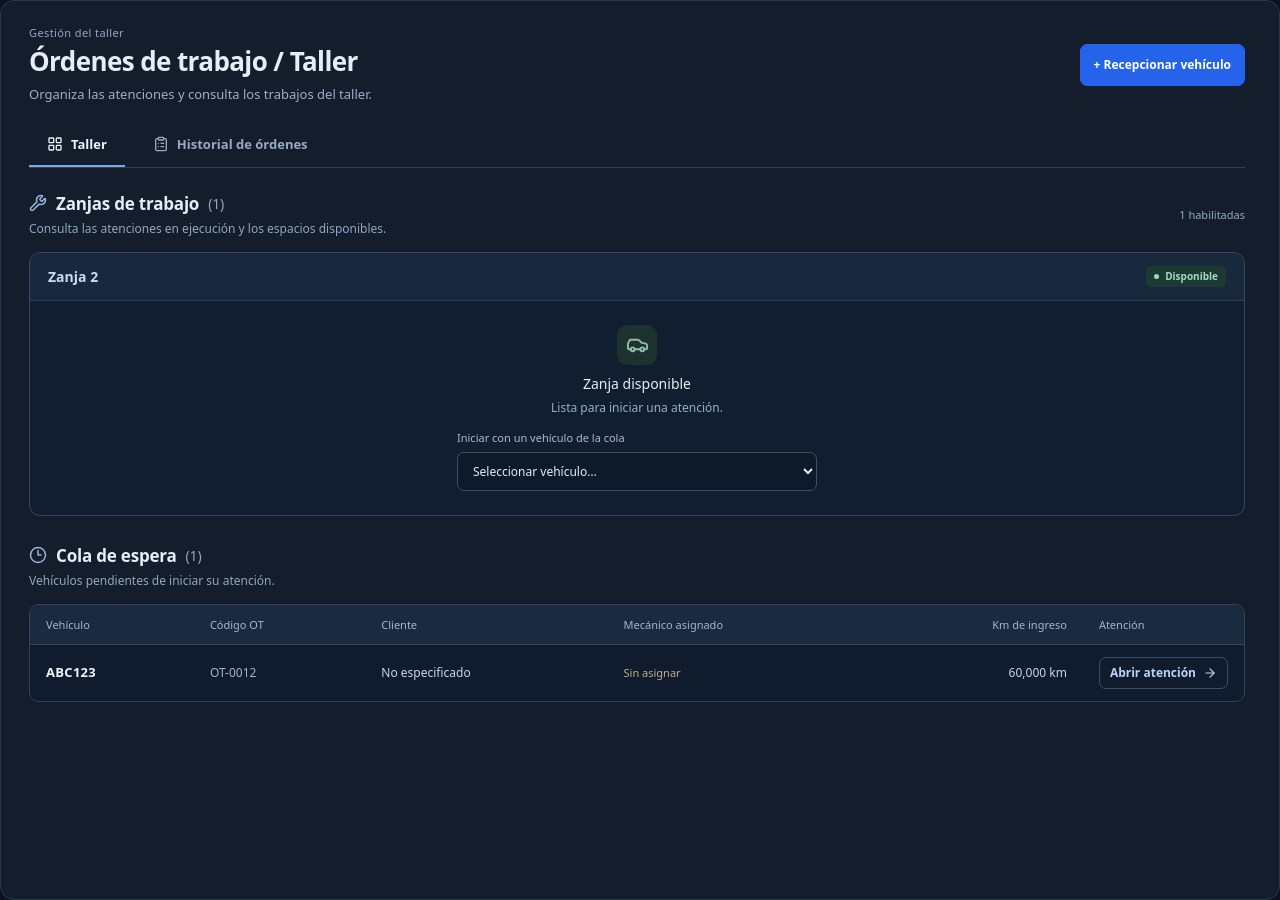
Test case: Avisos de recepción, inicio directo y consultas › una recepción pendiente no anuncia éxito y lo muestra al confirmarse
The image size is (1280, 900).
Expected: the text "ABC123" is shown, [46,663,96,681]
Step 1. Click the button "+ Recepcionar vehículo" → click(1162, 65), box [1080,44,1245,86]
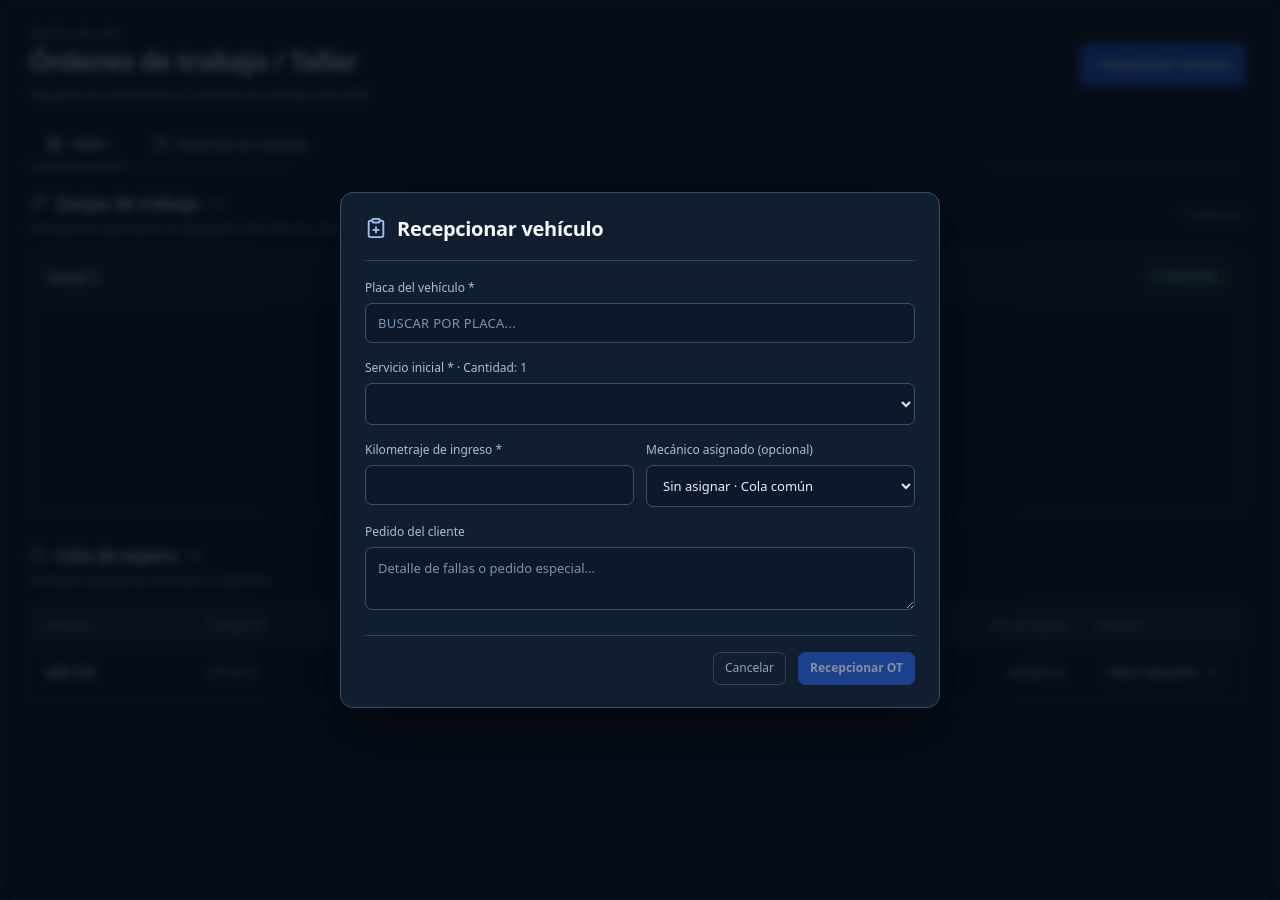
Step 2. Type "ABC123" into the field with placeholder "Buscar por placa..." → (640, 323), box [365,303,915,343]
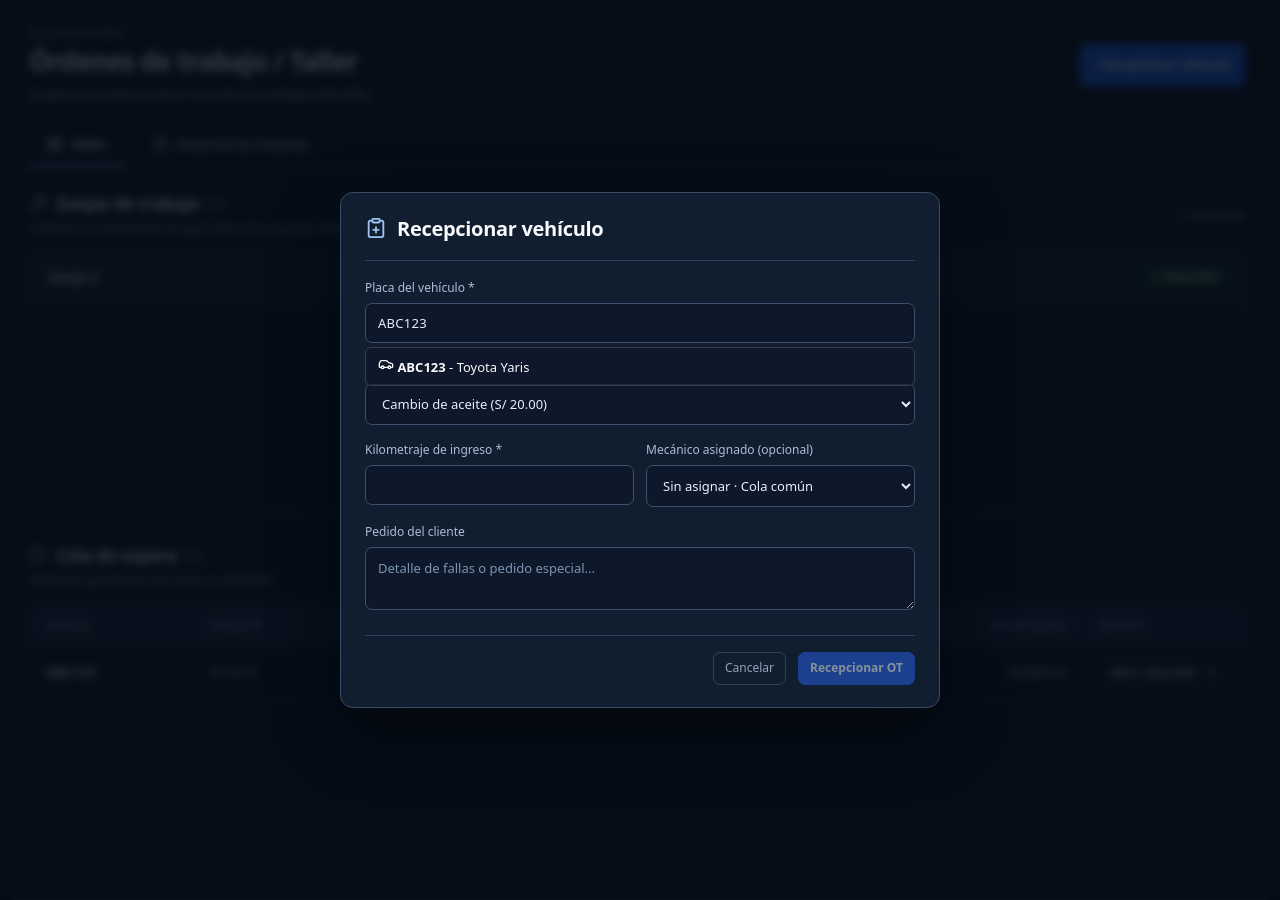
Step 3. Click the text "ABC123 - Toyota Yaris" → click(640, 366), box [366,348,914,385]
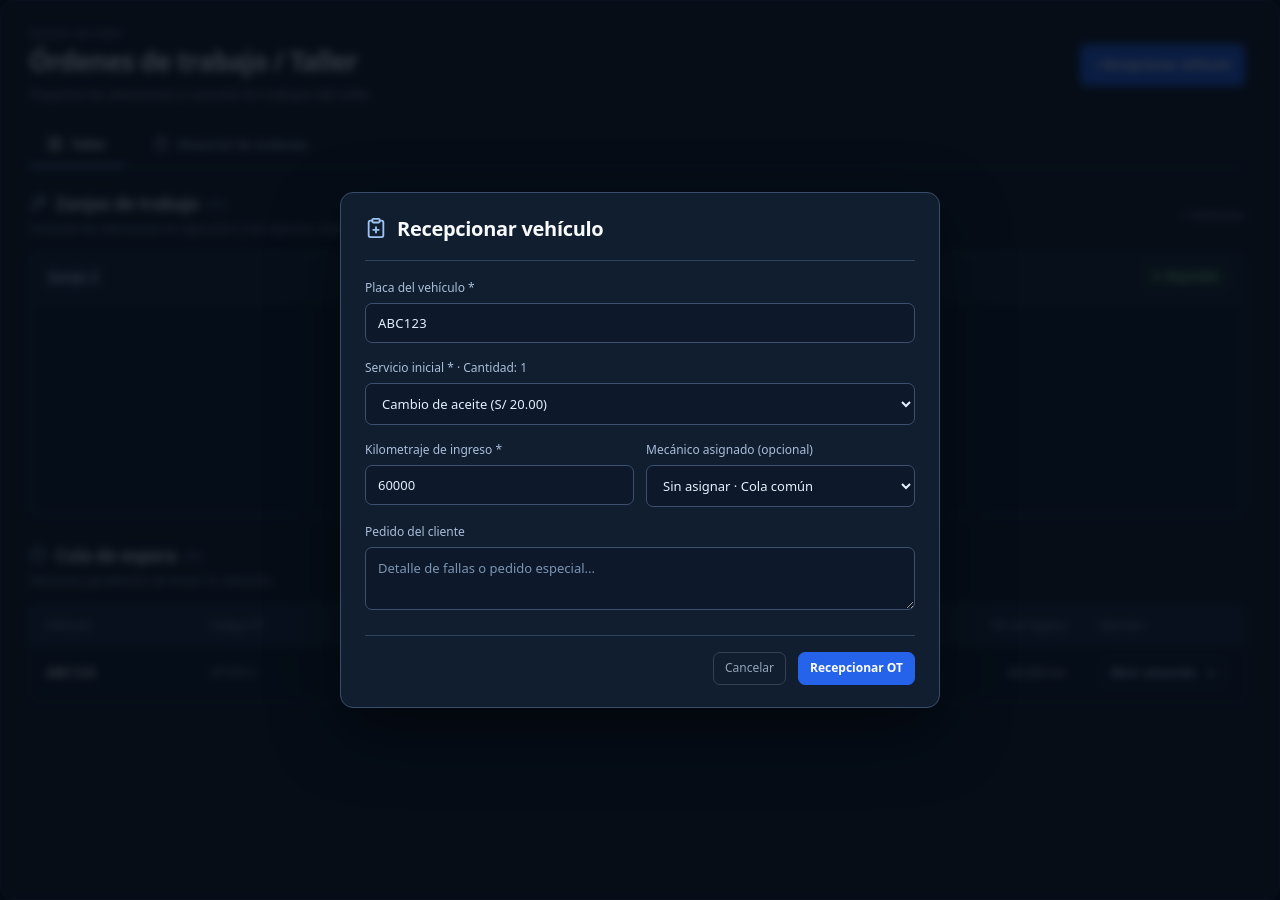
Expected: the button "Recepcionar OT" is enabled
Step 4. Click the button "Recepcionar OT" → click(856, 669), box [798,652,915,685]
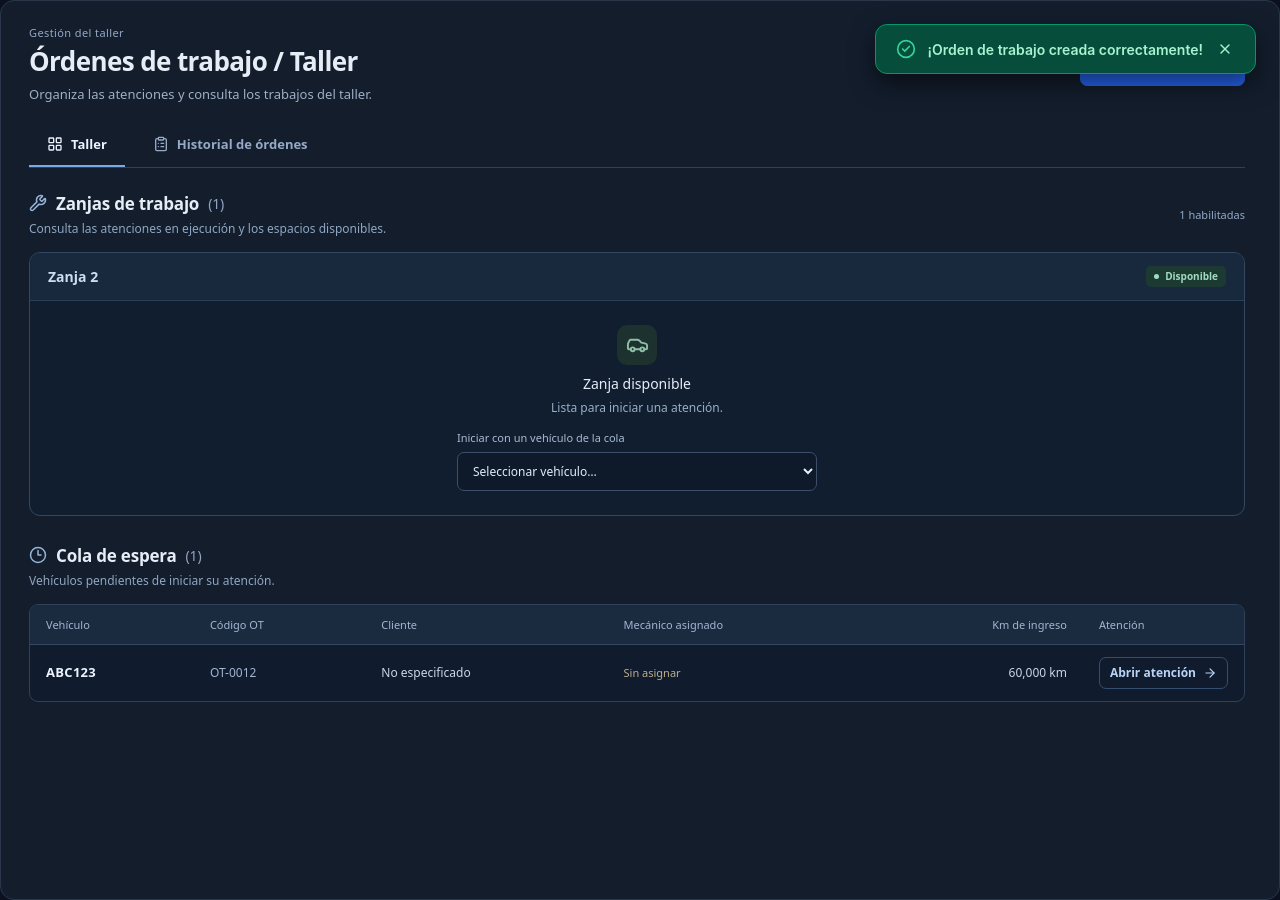
Expected: the text "¡Orden de trabajo creada correctamente!" is shown, [928,40,1203,58]
Expected: the dialog is gone
